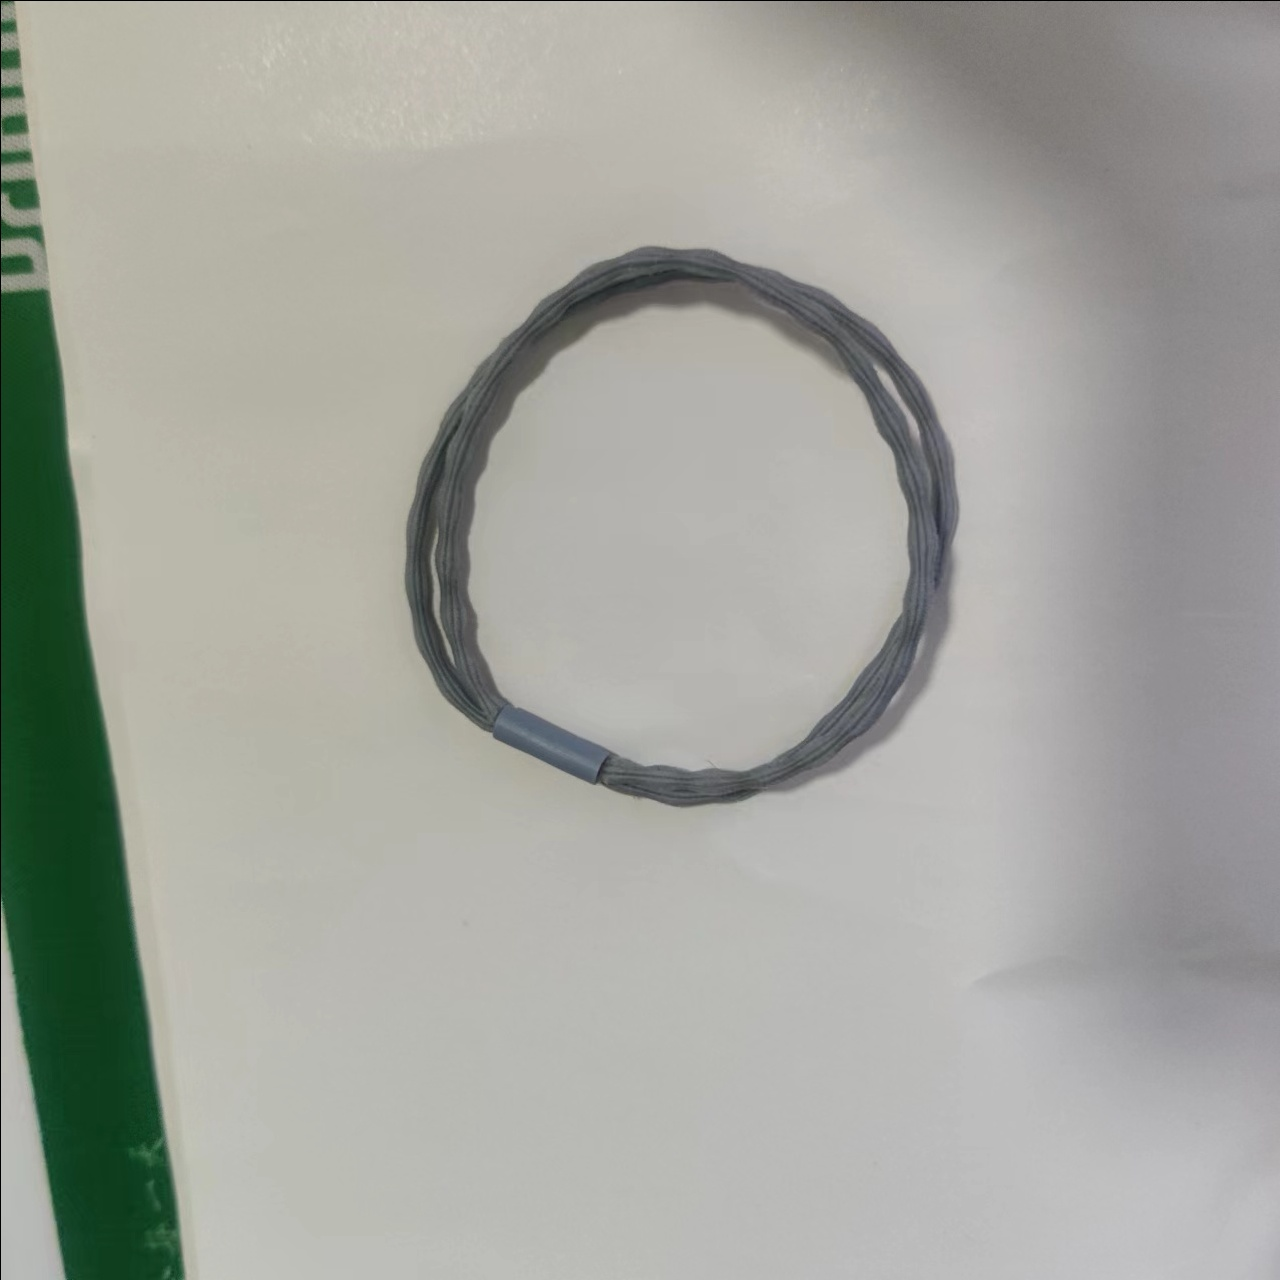9/可回收垃圾/绳子: (403, 246, 961, 810)
